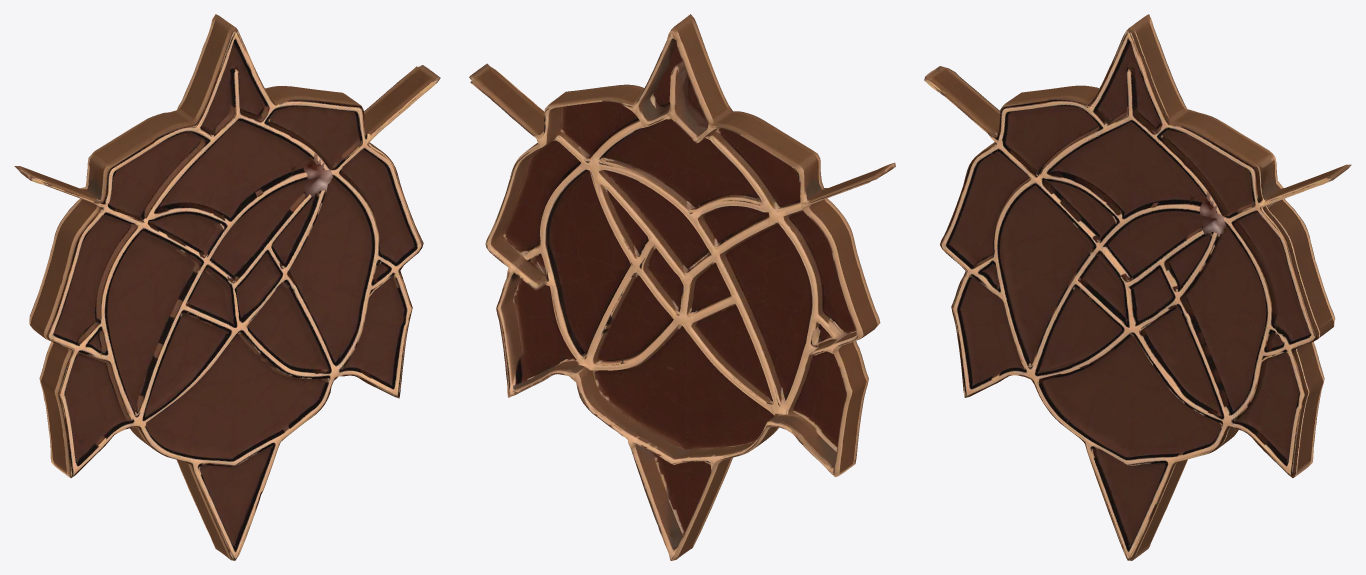
File: sigil-duotone-hero.glb
3 renders of one model, left to right at view 1: azimuth 30°, elevation 25°; view 2: azimuth 150°, elevation 25°; view 3: azimuth 330°, elevation 25°, orthographic.
Bounding box in the file's own units: 1.61 × 2 × 0.1429.
1 material, 1 textured.
